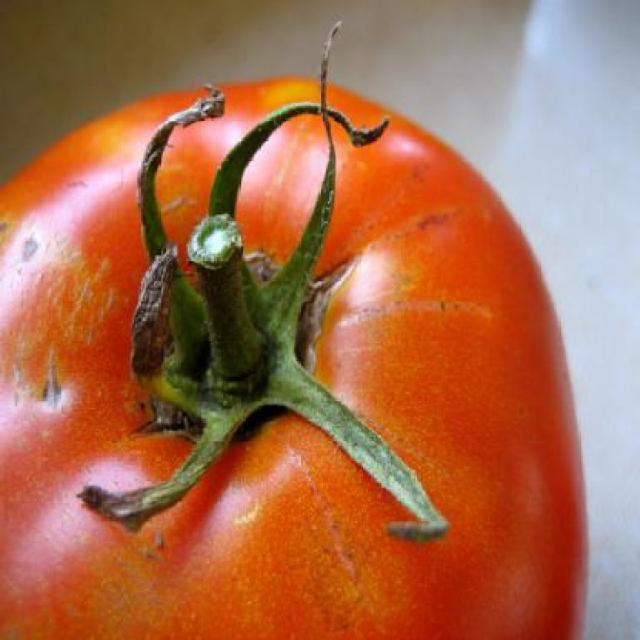Tomato: (40, 54, 594, 624)
